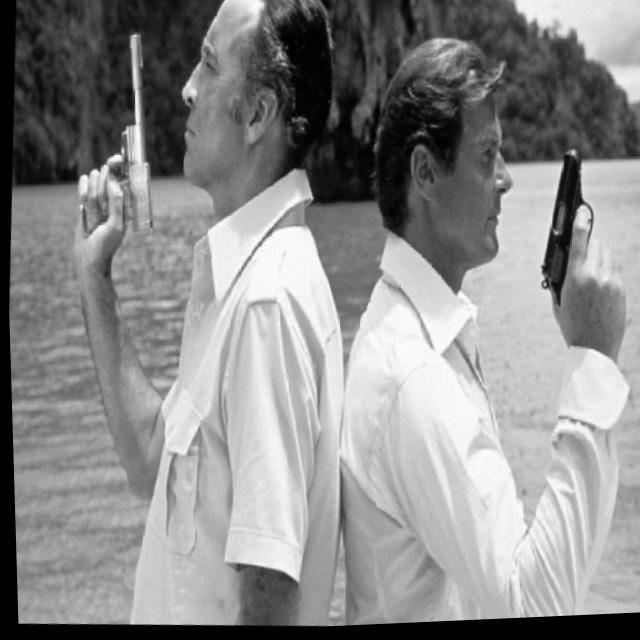weapon: (78, 26, 165, 247), (540, 136, 602, 314)
